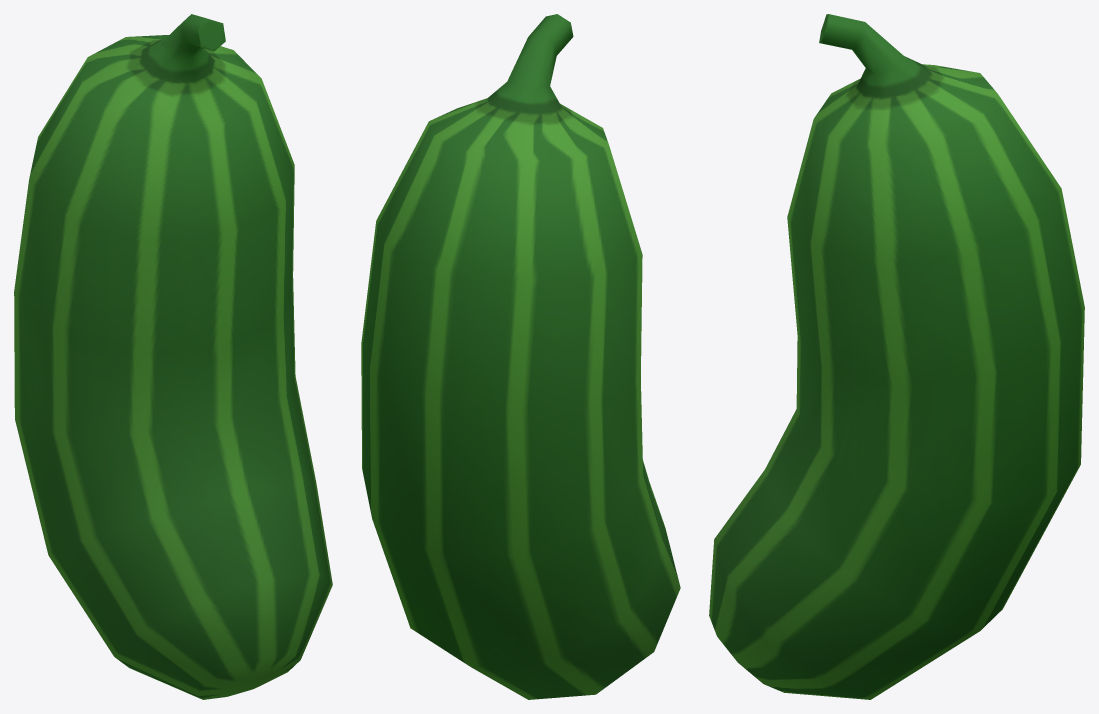
The model's file is Food_Vegetables_Cucumber.gltf.
The picture shows the model from 3 angles, left to right: view 1: azimuth 30°, elevation 25°; view 2: azimuth 150°, elevation 25°; view 3: azimuth 270°, elevation 25°; orthographic projection.
Visible parts, largest first — view 1: Food_Vegetables_Cucumber; view 2: Food_Vegetables_Cucumber; view 3: Food_Vegetables_Cucumber.
Boxes of the visible parts, x1,y1,x2,y2 form: Food_Vegetables_Cucumber: (14, 14, 332, 699); Food_Vegetables_Cucumber: (361, 14, 680, 699); Food_Vegetables_Cucumber: (709, 14, 1084, 699).
Bounding box in the file's own units: 0.097 × 0.2596 × 0.1317.
Materials: 1 (1 with a texture image).
